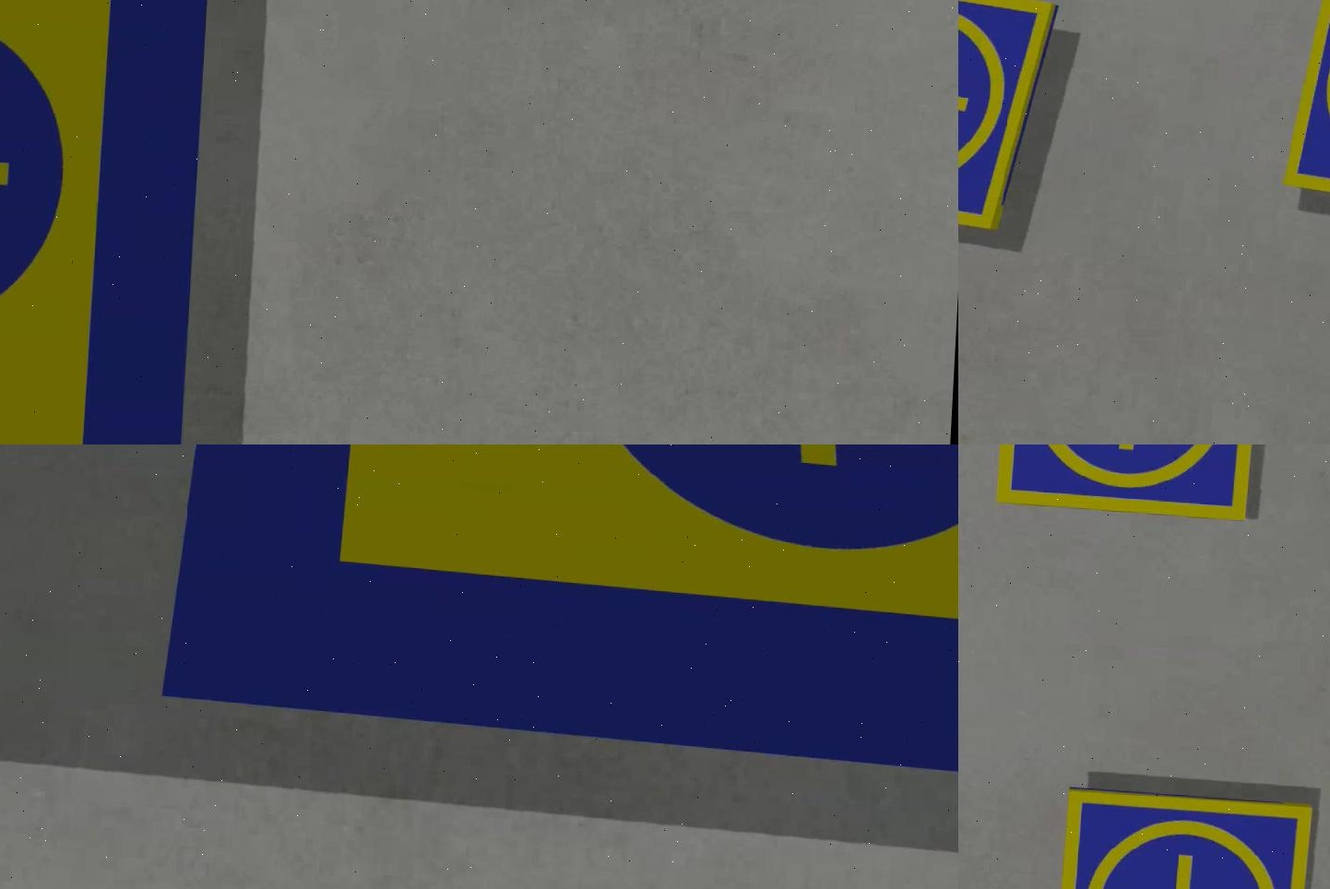large_base: (153, 445, 956, 775), (0, 1, 218, 445)
small_base: (1058, 784, 1312, 889), (956, 1, 1058, 234), (991, 445, 1265, 520)
